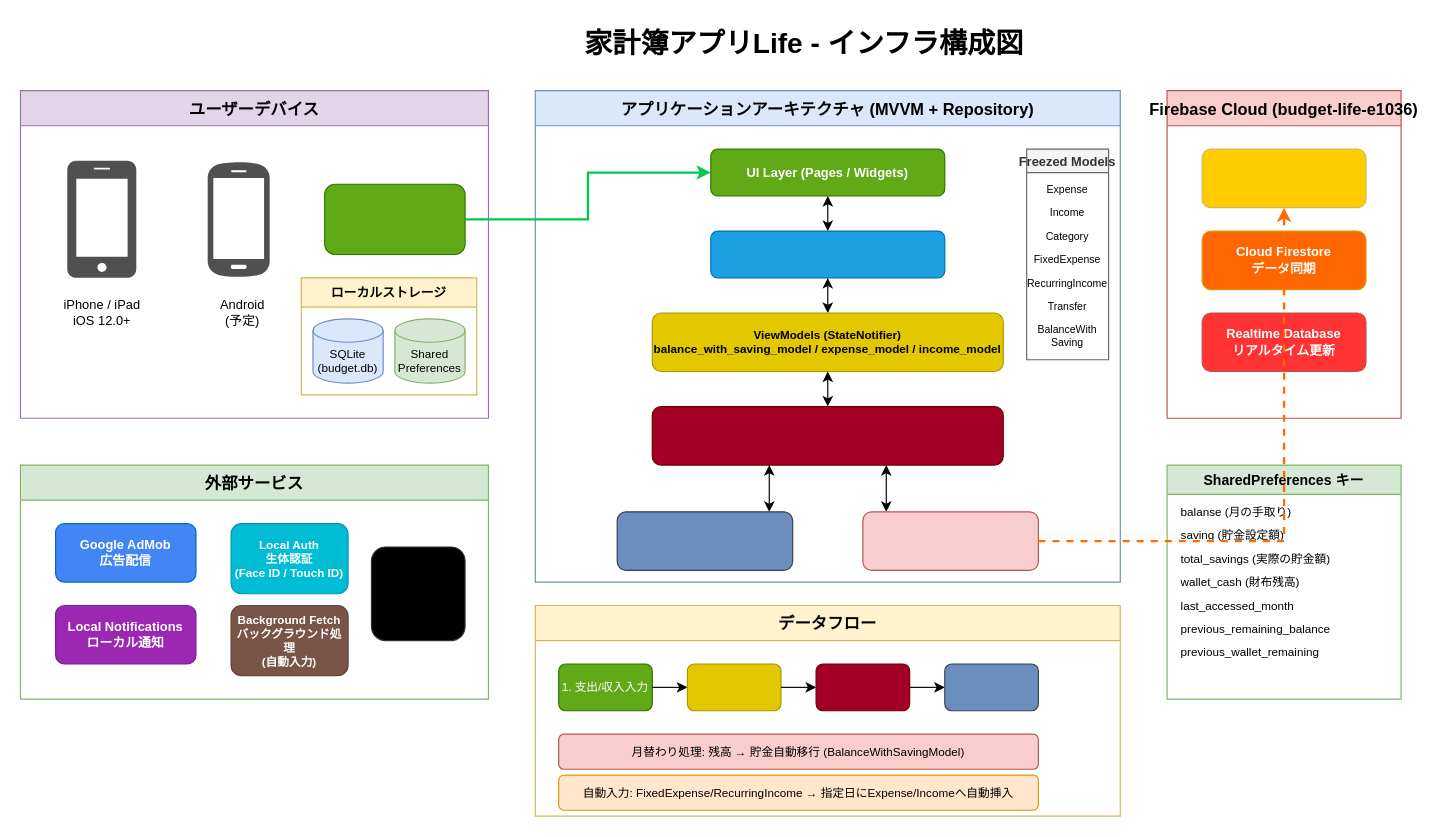
Image size: 1439x837. Some labels were removed from this diagram. Each missing label, with the centre of its shape:
"2. ViewModel 処理" belongs at [733,687].
"3. Repository 保存" belongs at [862,687].
"4. SQLite + Firebase" belongs at [991,687].
"App Store iOS配布" belongs at [417,593].
"Database Layer (expense_database, etc.)" belongs at [704,540].
"Firebase Auth ユーザー認証" belongs at [1283,178].
"Firebase Services (Auth, Firestore, RealtimeDB)" belongs at [950,540].
"Flutter App 家計簿アプリLife" belongs at [394,218].
"Repositories expense_repository / income_repository / category_repository" belongs at [827,435].
"Riverpod Providers (StateNotifierProvider)" belongs at [827,254].
